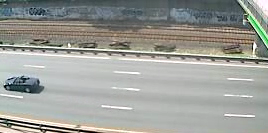car: (2, 74, 45, 94)
